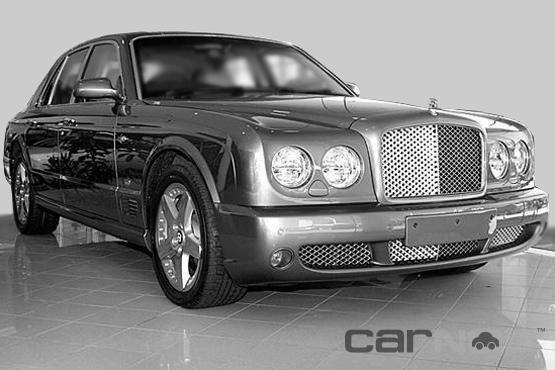car: (3, 29, 553, 312)
